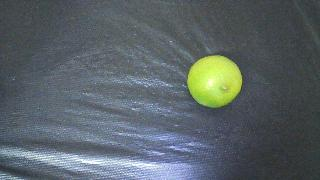LOCAL: (187, 55, 242, 108)
